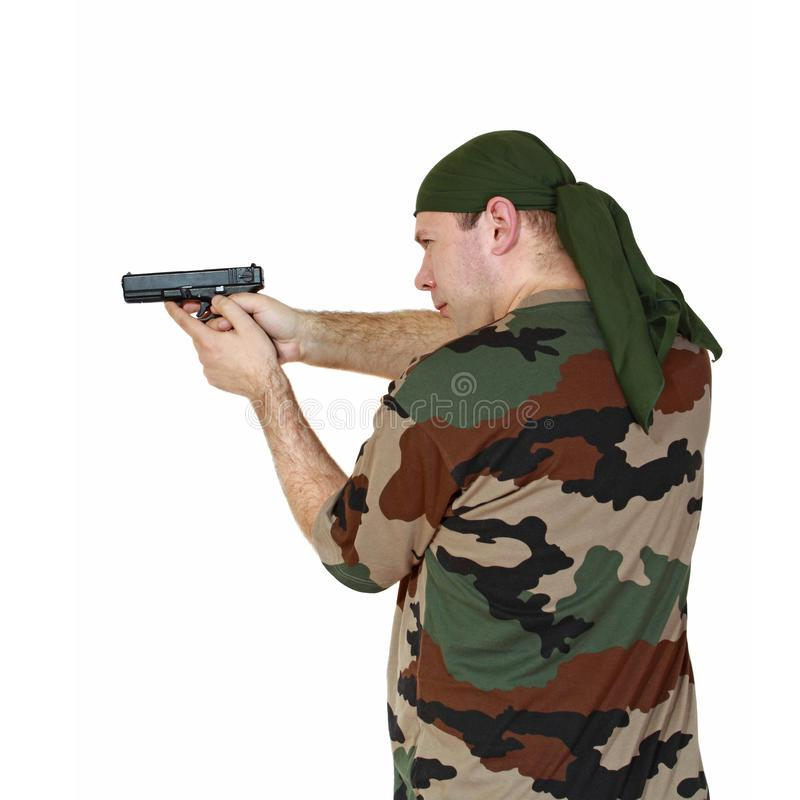criminal: (117, 125, 724, 800)
weapon: (118, 259, 267, 324)
